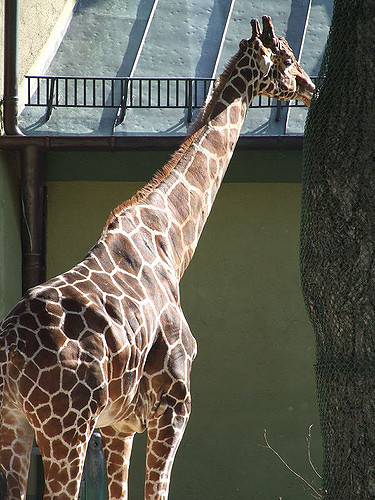giraffe: (1, 23, 332, 468)
